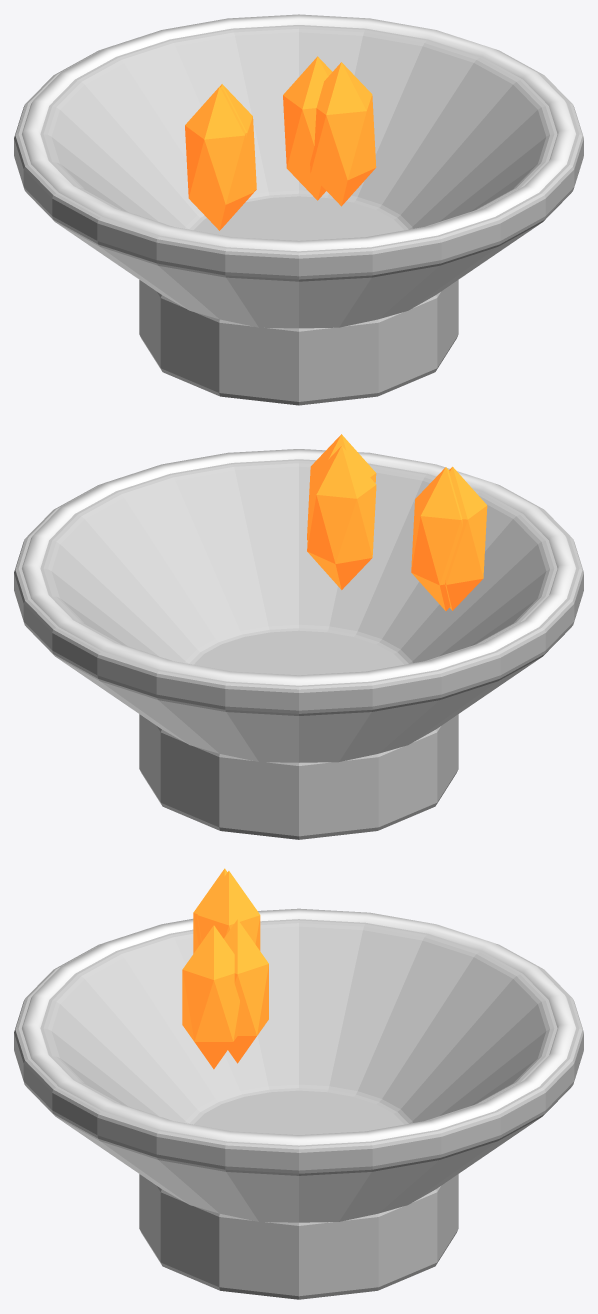
The model's file is AS_19_Offering_Bowl.glb.
3 views of the same model, one above another, from view 1: azimuth 30°, elevation 25°; view 2: azimuth 150°, elevation 25°; view 3: azimuth 270°, elevation 25° (orthographic).
Visible parts, largest first — view 1: AS_19_Offering_Bowl__hollow offering vessel, AS_19_Offering_Bowl__foot, AS_19_Offering_Bowl__offering lip, AS_19_Offering_Bowl__shard.001, AS_19_Offering_Bowl__shard, AS_19_Offering_Bowl__shard.002, AS_19_Offering_Bowl__shard.003; view 2: AS_19_Offering_Bowl__hollow offering vessel, AS_19_Offering_Bowl__foot, AS_19_Offering_Bowl__offering lip, AS_19_Offering_Bowl__shard.002, AS_19_Offering_Bowl__shard.003, AS_19_Offering_Bowl__shard.001, AS_19_Offering_Bowl__shard; view 3: AS_19_Offering_Bowl__hollow offering vessel, AS_19_Offering_Bowl__foot, AS_19_Offering_Bowl__offering lip, AS_19_Offering_Bowl__shard, AS_19_Offering_Bowl__shard.002, AS_19_Offering_Bowl__shard.003.
Boxes of the visible parts, x1,y1,x2,y2 form: AS_19_Offering_Bowl__hollow offering vessel: [14, 25, 583, 328]; AS_19_Offering_Bowl__foot: [139, 280, 458, 405]; AS_19_Offering_Bowl__offering lip: [22, 14, 575, 251]; AS_19_Offering_Bowl__shard.001: [185, 86, 254, 230]; AS_19_Offering_Bowl__shard: [310, 62, 376, 206]; AS_19_Offering_Bowl__shard.002: [283, 56, 332, 200]; AS_19_Offering_Bowl__shard.003: [220, 84, 256, 224]; AS_19_Offering_Bowl__hollow offering vessel: [14, 459, 583, 762]; AS_19_Offering_Bowl__foot: [139, 714, 458, 839]; AS_19_Offering_Bowl__offering lip: [22, 449, 575, 685]; AS_19_Offering_Bowl__shard.002: [307, 446, 376, 589]; AS_19_Offering_Bowl__shard.003: [411, 467, 462, 610]; AS_19_Offering_Bowl__shard.001: [445, 466, 487, 610]; AS_19_Offering_Bowl__shard: [307, 434, 376, 540]; AS_19_Offering_Bowl__hollow offering vessel: [14, 919, 583, 1222]; AS_19_Offering_Bowl__foot: [139, 1174, 458, 1299]; AS_19_Offering_Bowl__offering lip: [22, 908, 575, 1145]; AS_19_Offering_Bowl__shard: [182, 925, 239, 1069]; AS_19_Offering_Bowl__shard.002: [224, 919, 268, 1063]; AS_19_Offering_Bowl__shard.003: [197, 871, 260, 950].
Size of the model in its own units: 1 by 0.6 by 1.
